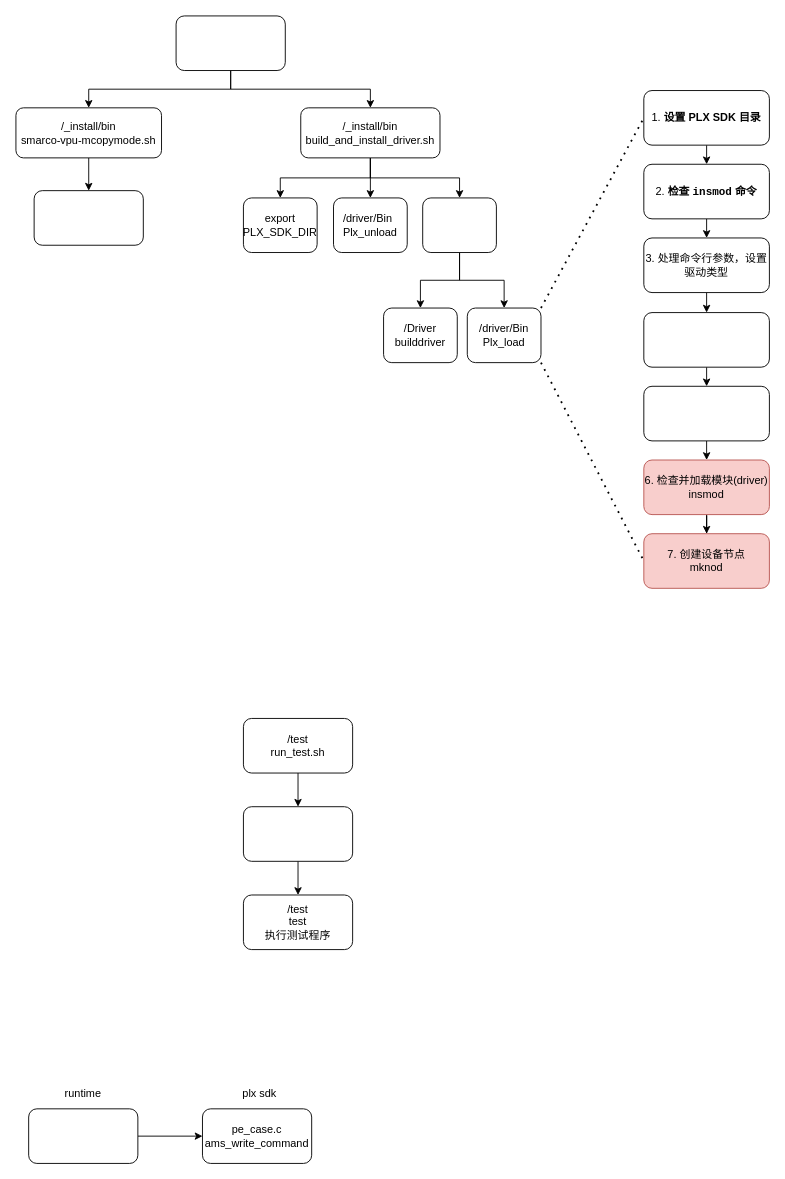
Some shapes in this 785 by 1179 pixel diagram are drawn without their labels. Here are the shapes that lost their labels. From the top down, the centre of each, then its label:
(230,43): / install.sh
(88,217): dma configure
(459,225): /driver/Bin build.sh
(706,339): 4. 检查超级用户权限
(706,413): 5. 设置驱动路径
(298,833): /test build_dfu.sh 编译 test.c
(83,1135): dfu_hgc.c Dfu_Message_Send
